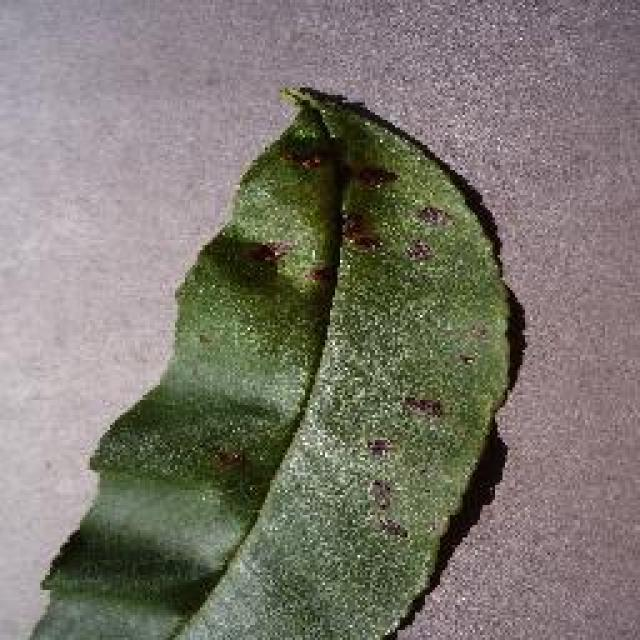Bacterial_spot: (339, 481, 416, 551), (386, 381, 466, 438), (409, 198, 466, 244)
